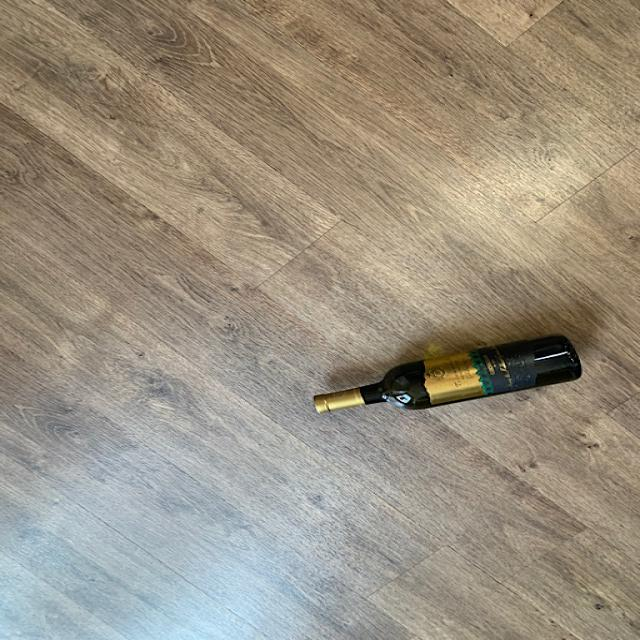Glass Bottle: (308, 334, 582, 418)
